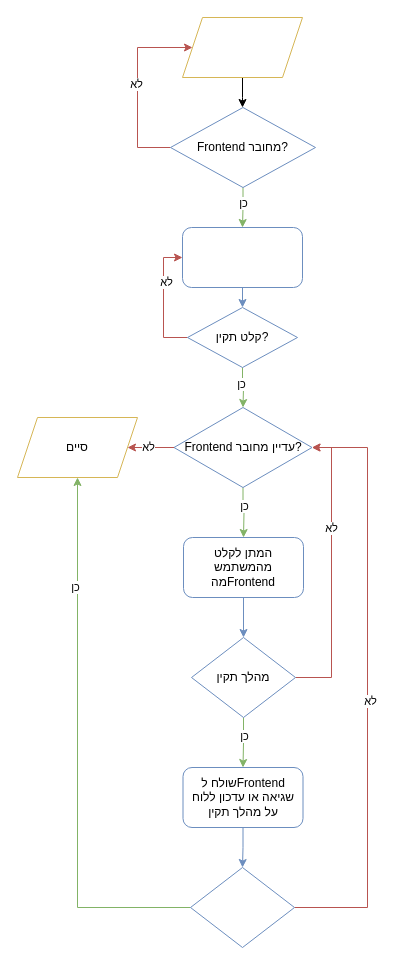
Some shapes in this 394 by 965 pixel diagram are drawn without their labels. Here are the shapes that lost their labels. From the top down, the centre of each, then its label:
At point (242, 47): "התחלה".
At point (242, 257): "הזן צבע של השחקן המתחיל".
At point (242, 907): "האם המשחק נגמר".
